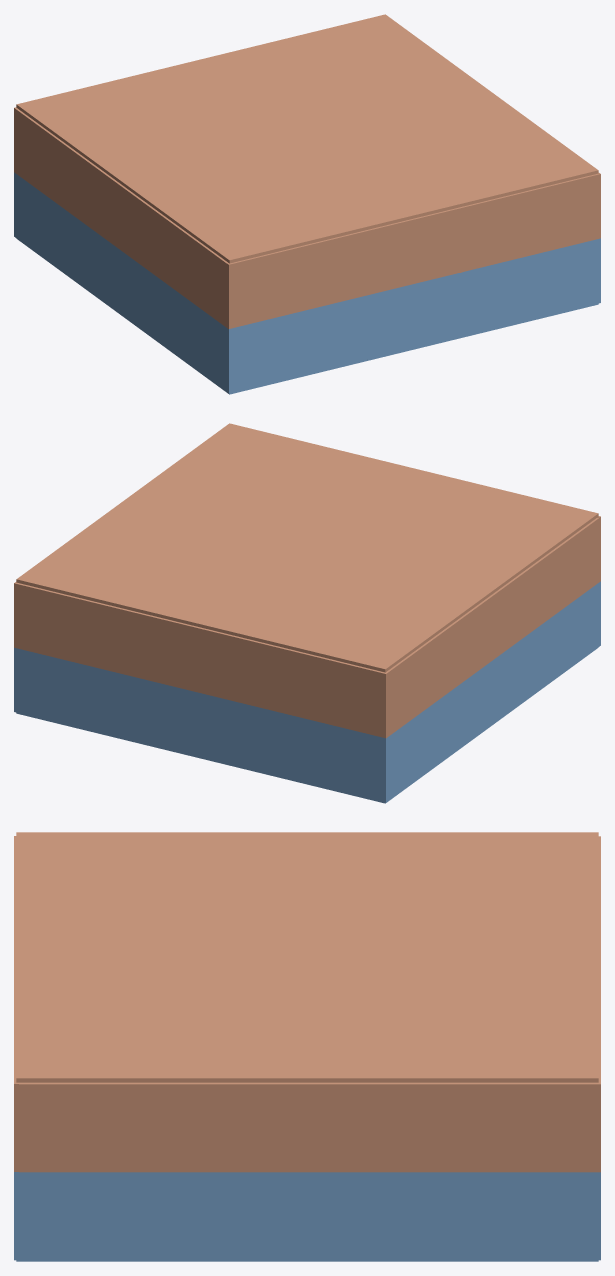
Rendered from Labyrinth_col.fbx.
3 views of the same model, one above another, from view 1: azimuth 30°, elevation 25°; view 2: azimuth 150°, elevation 25°; view 3: azimuth 270°, elevation 25° (orthographic). The views are drawn at different scales.
Parts seen in each view (by area): view 1: Ceiling_7_0_1, WallN_7_0_1, WallW_0_0_0, START, Floor_7_0_0; view 2: Ceiling_7_0_1, WallS_0_7_0, WallW_0_0_0, START, Floor_7_0_0; view 3: Ceiling_7_0_1, WallE_7_7_0, START, WallN_7_0_1, WallS_0_7_0, Floor_7_0_0.
Boxes of the visible parts, x1,y1,x2,y2 form: Ceiling_7_0_1: (16, 14, 598, 263); WallN_7_0_1: (227, 173, 600, 393); WallW_0_0_0: (15, 108, 231, 393); START: (67, 146, 462, 382); Floor_7_0_0: (16, 238, 598, 394); Ceiling_7_0_1: (16, 423, 598, 672); WallS_0_7_0: (14, 582, 387, 802); WallW_0_0_0: (383, 517, 600, 801); START: (152, 575, 520, 791); Floor_7_0_0: (16, 647, 598, 803); Ceiling_7_0_1: (16, 832, 598, 1082); WallE_7_7_0: (14, 1082, 600, 1260); START: (159, 928, 600, 1260); WallN_7_0_1: (14, 836, 18, 1259); WallS_0_7_0: (596, 836, 600, 1260); Floor_7_0_0: (16, 1260, 598, 1261).
Size of the model in its own units: 1829 by 631 by 1829.
